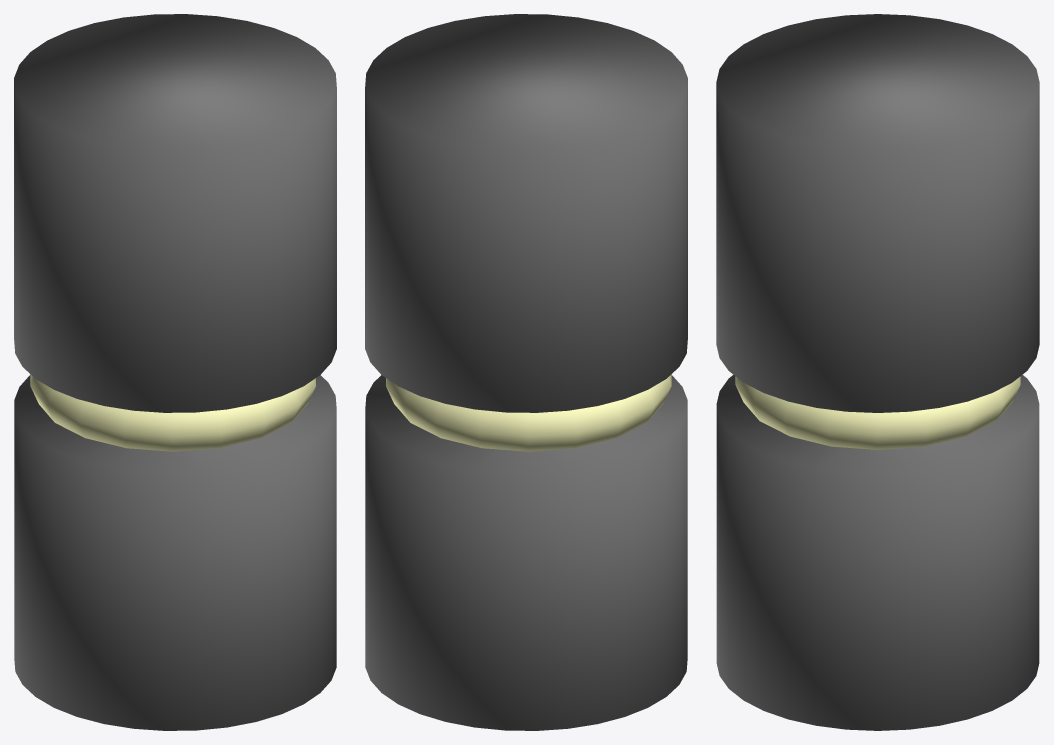
Rendered from glow-mesh.dae.
3 views of the same model, side by side, from view 1: azimuth 30°, elevation 25°; view 2: azimuth 150°, elevation 25°; view 3: azimuth 270°, elevation 25° (orthographic).
Parts seen in each view (by area): view 1: Cylinder, Torus; view 2: Cylinder, Torus; view 3: Cylinder, Torus.
Boxes of the visible parts, x1=… form: Cylinder: x1=14, y1=14, x2=336, y2=730; Torus: x1=30, y1=374, x2=315, y2=451; Cylinder: x1=365, y1=14, x2=687, y2=730; Torus: x1=386, y1=374, x2=671, y2=451; Cylinder: x1=716, y1=14, x2=1039, y2=730; Torus: x1=735, y1=376, x2=1020, y2=449.
Size of the model in its own units: 2 by 2 by 3.97.
